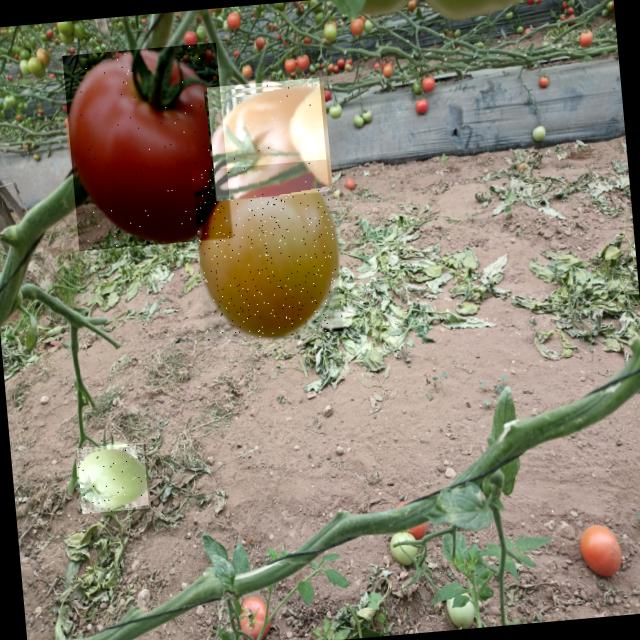Ripe Tomato: (61, 42, 232, 251)
Unripe Tomato: (192, 159, 342, 342), (206, 78, 329, 200), (76, 442, 148, 514)
